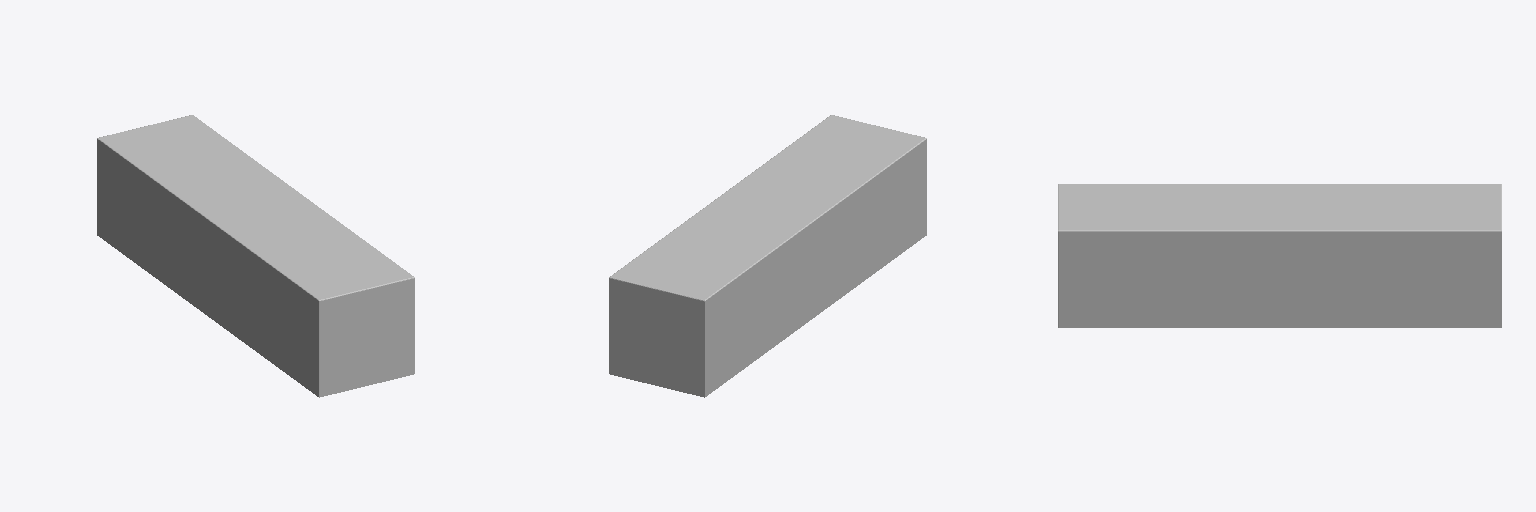
Rendered from ConcreteWall_Texture.obj.
3 views of the same model, side by side, from view 1: azimuth 30°, elevation 25°; view 2: azimuth 150°, elevation 25°; view 3: azimuth 270°, elevation 25° (orthographic).
Parts seen in each view (by area): view 1: ConcreteShellDock_WB; view 2: ConcreteShellDock_WB; view 3: ConcreteShellDock_WB.
Part boxes in pixels (bbox=[...]): ConcreteShellDock_WB: bbox=[97, 115, 414, 397]; ConcreteShellDock_WB: bbox=[609, 115, 926, 397]; ConcreteShellDock_WB: bbox=[1058, 184, 1501, 327].
Size of the model in its own units: 2 by 1.93 by 8.